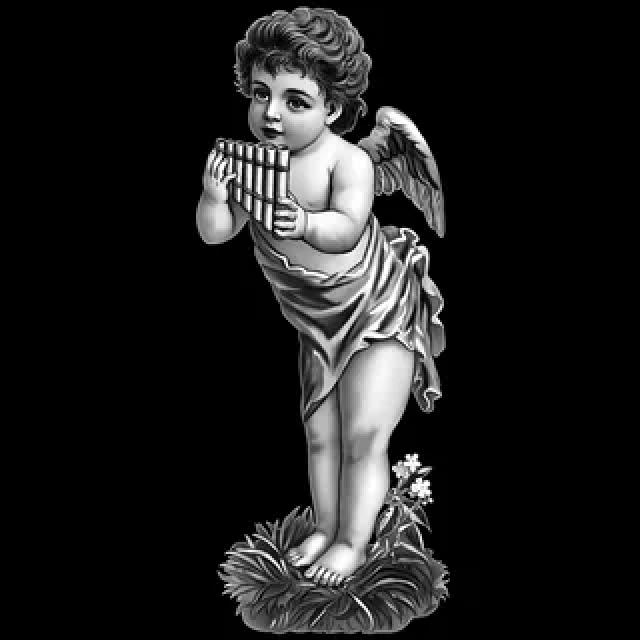angel: (162, 0, 482, 640)
